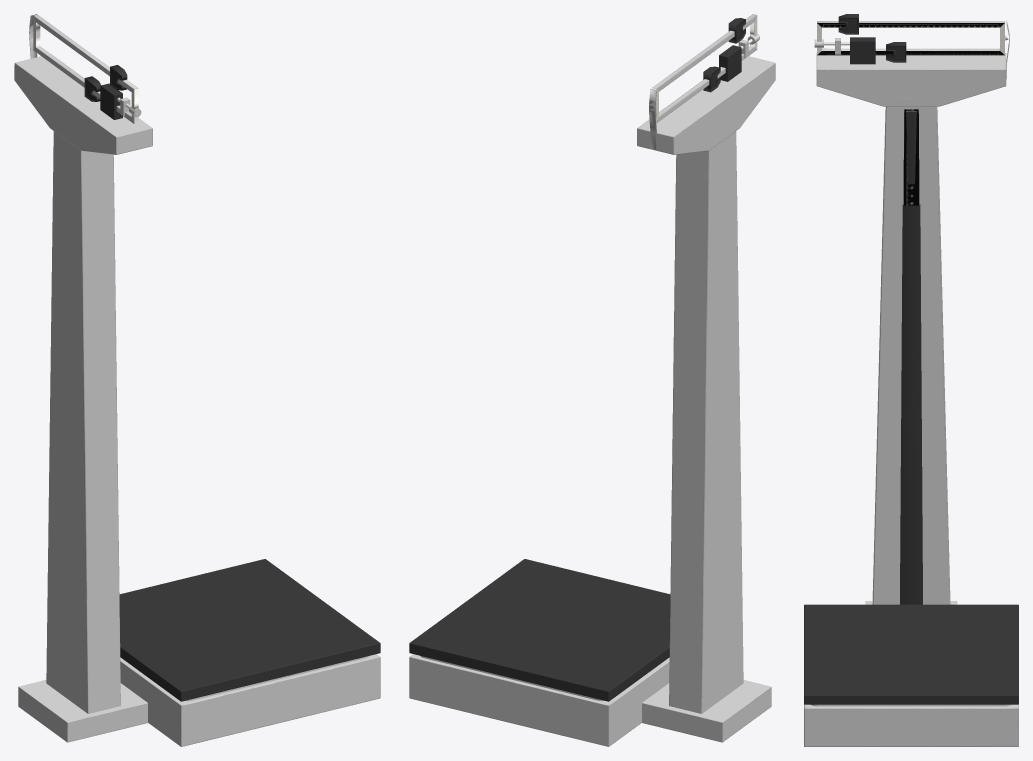
3 renders of one model, left to right at view 1: azimuth 30°, elevation 25°; view 2: azimuth 150°, elevation 25°; view 3: azimuth 270°, elevation 25°, orthographic. The views are drawn at different scales.
Parts seen in each view (by area): view 1: W-4; view 2: W-4; view 3: W-4.
Part boxes in pixels (box(x1,y1,x2,y2)): W-4: box(14, 14, 380, 746); W-4: box(409, 14, 775, 746); W-4: box(804, 14, 1018, 746).
Size of the model in its own units: 65.64 by 150 by 46.76.
